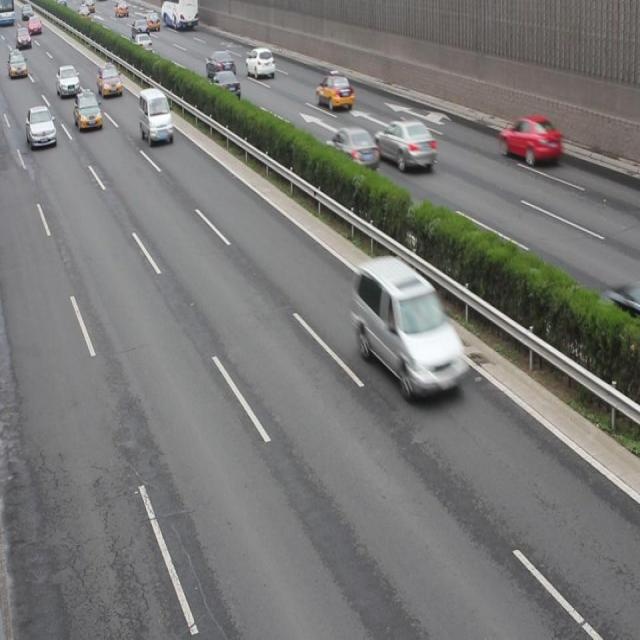car: (499, 114, 560, 166), (374, 117, 435, 167), (325, 128, 378, 168), (315, 72, 353, 113), (27, 107, 56, 148), (74, 91, 101, 129), (246, 46, 274, 80), (204, 52, 234, 81), (97, 65, 121, 99), (210, 71, 240, 98), (56, 65, 80, 96), (1, 51, 28, 77), (131, 33, 151, 55), (130, 19, 149, 38)
truck: (352, 256, 463, 396), (139, 87, 172, 145)
